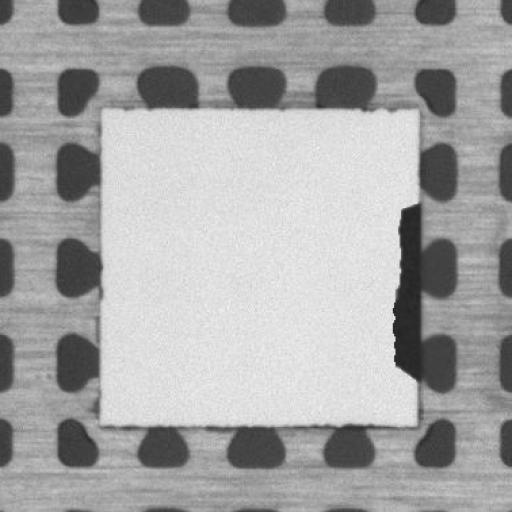DIE_BROKEN: (388, 197, 422, 380)
